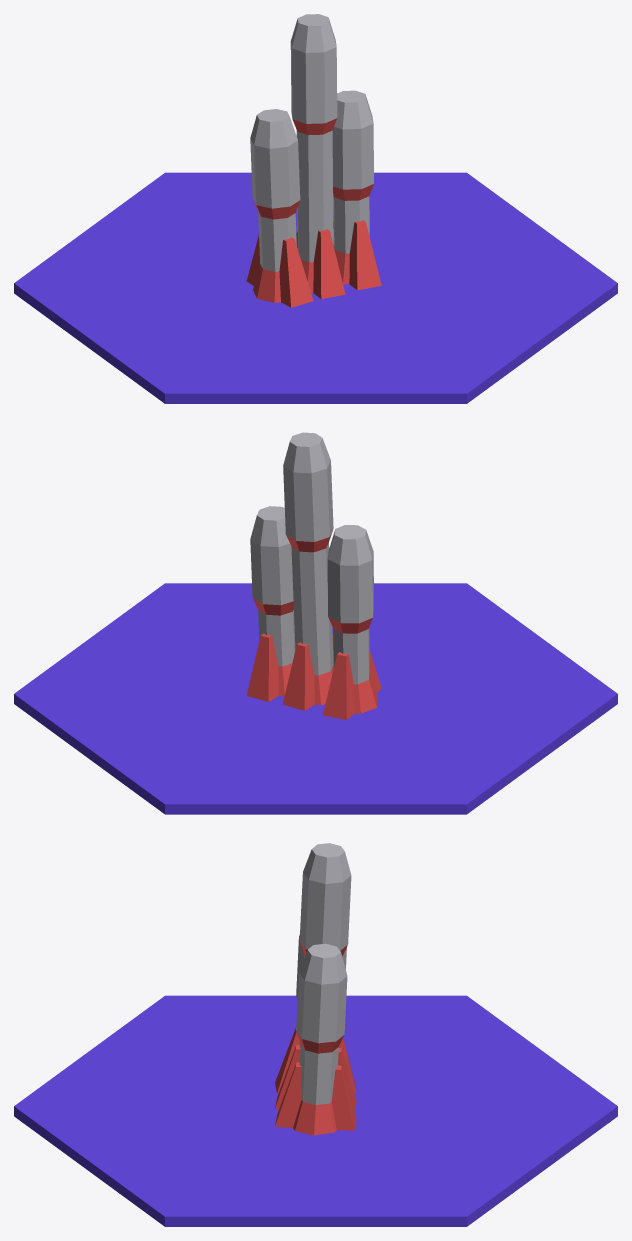
File: realistic_spaceship.glb
3 views of the same model, one above another, from view 1: azimuth 30°, elevation 25°; view 2: azimuth 150°, elevation 25°; view 3: azimuth 270°, elevation 25° (orthographic).
Visible parts, largest first — view 1: hexagon, secondary_booster_1, main_booster; view 2: hexagon, secondary_booster_1, main_booster; view 3: hexagon, secondary_booster_1, main_booster.
Part boxes in pixels (bbox=[...]): hexagon: bbox=[14, 172, 617, 403]; secondary_booster_1: bbox=[246, 90, 381, 307]; main_booster: bbox=[290, 14, 345, 299]; hexagon: bbox=[14, 583, 617, 814]; secondary_booster_1: bbox=[246, 506, 381, 719]; main_booster: bbox=[282, 432, 333, 710]; hexagon: bbox=[14, 995, 617, 1226]; secondary_booster_1: bbox=[275, 934, 356, 1135]; main_booster: bbox=[275, 843, 356, 1111].
Size of the model in its own units: 18.83 by 12.68 by 21.75.
